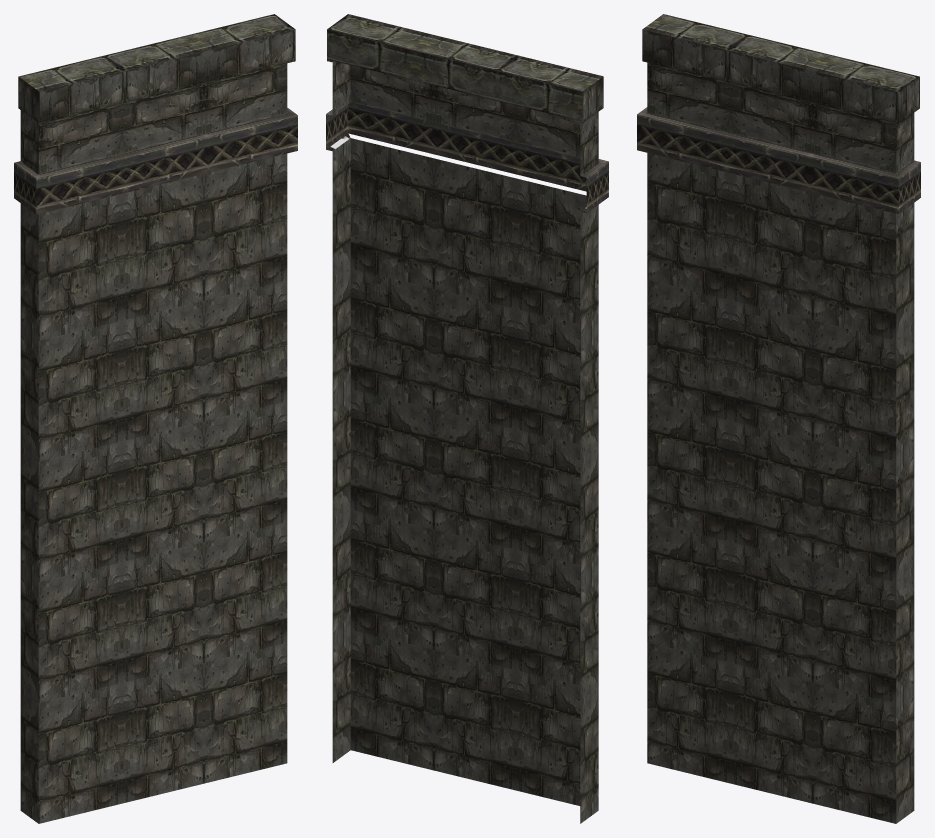
File: S_Build_Muxue068_1.FBX
3 renders of one model, left to right at view 1: azimuth 30°, elevation 25°; view 2: azimuth 150°, elevation 25°; view 3: azimuth 330°, elevation 25°, orthographic.
Visible parts, largest first — view 1: S_Build_Muxue068_1; view 2: S_Build_Muxue068_1; view 3: S_Build_Muxue068_1.
Part boxes in pixels (box(x1,y1,x2,y2)): S_Build_Muxue068_1: box(14, 14, 297, 823); S_Build_Muxue068_1: box(326, 14, 608, 823); S_Build_Muxue068_1: box(637, 14, 920, 823).
Bounding box in the file's own units: 935 × 2512 × 138.
